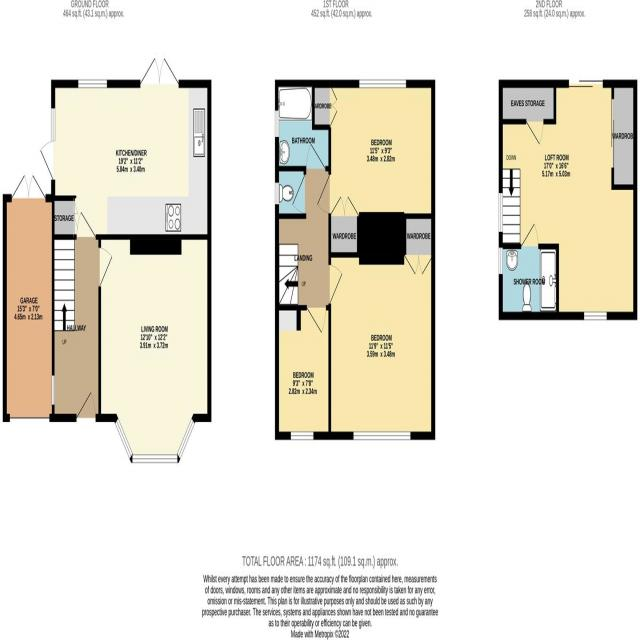DOOR: (76, 391, 96, 422), (328, 264, 343, 304), (98, 247, 113, 286), (292, 173, 306, 214), (307, 303, 326, 333), (76, 212, 96, 240), (306, 142, 326, 170), (40, 141, 54, 180), (317, 175, 330, 213)
DOUBLE DOOR: (140, 57, 179, 88), (12, 174, 46, 202)
ROOM: (40, 57, 212, 256), (98, 234, 212, 463), (328, 211, 435, 440), (312, 80, 436, 265), (275, 304, 331, 440)
WINDOW: (115, 418, 133, 458), (177, 419, 195, 458), (353, 432, 411, 440), (359, 79, 406, 88), (133, 454, 177, 463), (291, 432, 314, 440), (51, 107, 55, 141), (275, 111, 279, 138), (275, 182, 279, 205)
